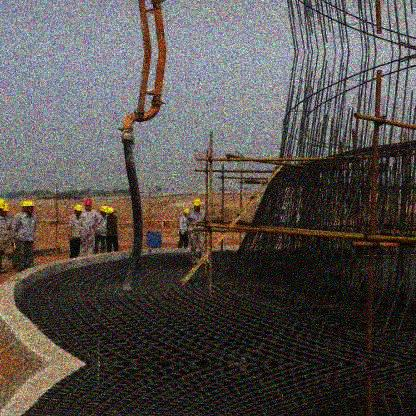helmet: (24, 200, 35, 215), (192, 197, 201, 212), (84, 198, 93, 212), (73, 204, 82, 217), (3, 202, 10, 216), (107, 207, 115, 218), (100, 205, 107, 217), (1, 199, 5, 214)
